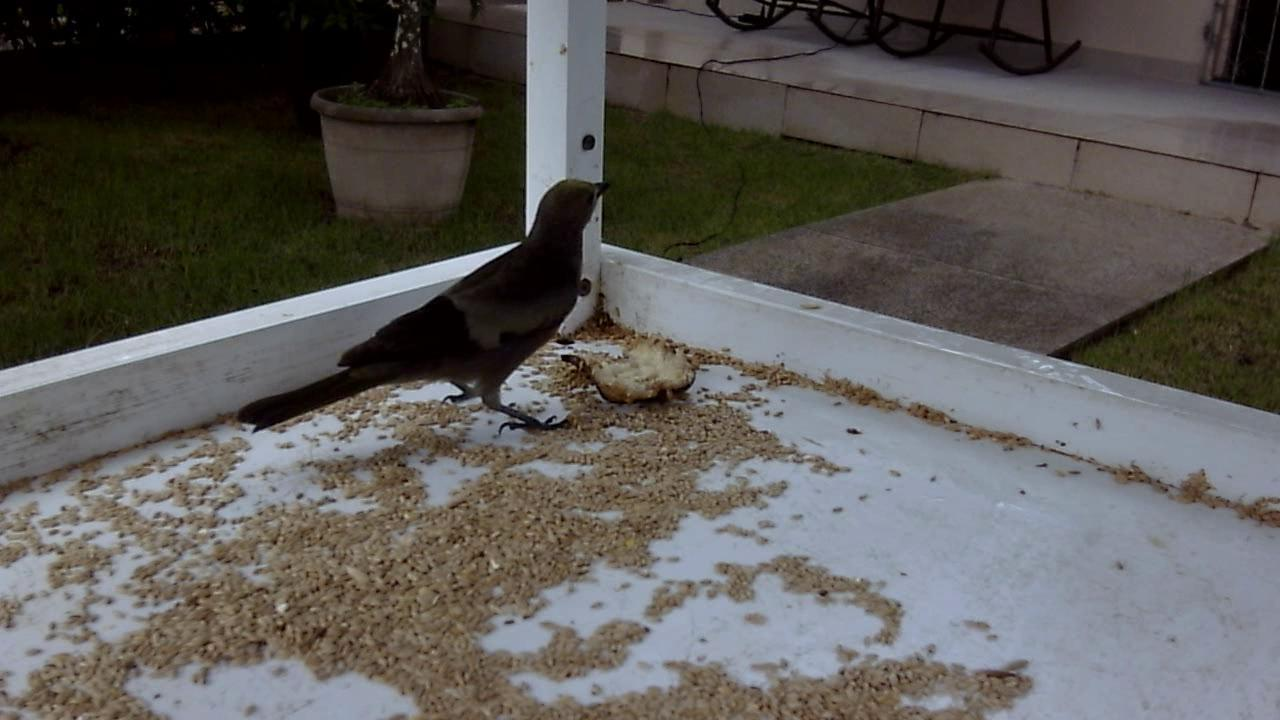sanhaco_do_coqueiro: (244, 171, 611, 441)
